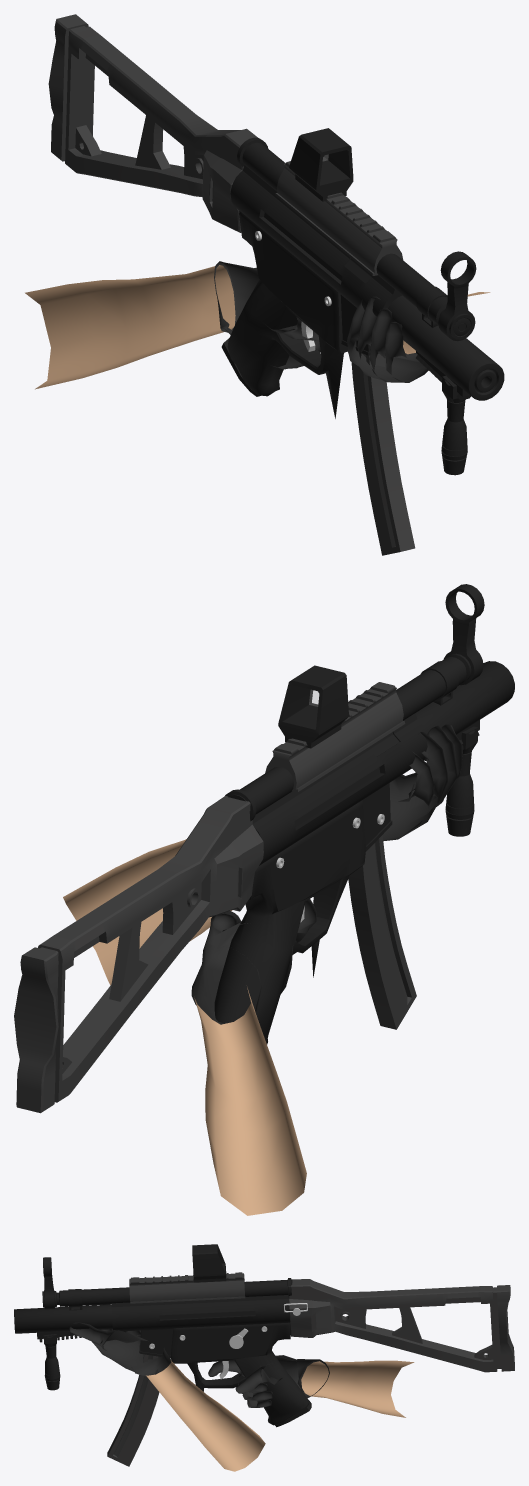
File: mp5-rig-7.glb
3 renders of one model, top to bottom at view 1: azimuth 30°, elevation 25°; view 2: azimuth 150°, elevation 25°; view 3: azimuth 270°, elevation 25°, orthographic. The views are drawn at different scales.
Visible parts, largest first — view 1: Plan012.010; view 2: Plan012.010; view 3: Plan012.010.
Boxes of the visible parts, bbox=[...] form: Plan012.010: bbox=[25, 14, 504, 555]; Plan012.010: bbox=[14, 584, 514, 1215]; Plan012.010: bbox=[14, 1244, 514, 1471].
Size of the model in its own units: 0.0757 by 0.0743 by 0.1556.
